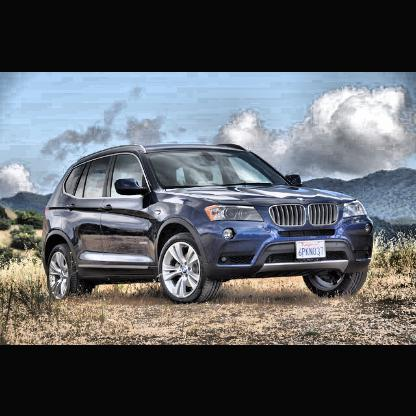BMW X3 SUV 2012: (42, 144, 374, 305)
